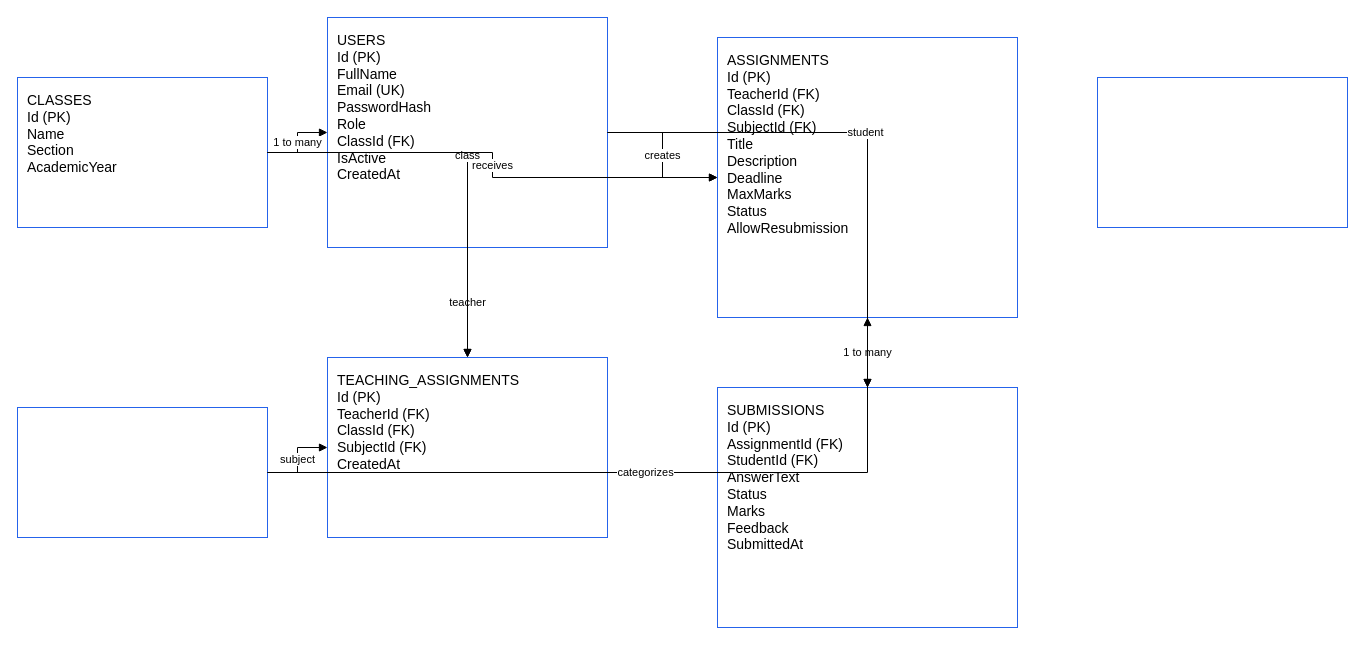
The diagram is 1365 pixels wide and 645 high, and some of its shapes have lost their labels. The centre of each missing label's shape, as x and y in pixels:
"SETTINGS Id (PK) Key (UK) Value Description" goes at (x=1222, y=152).
"SUBJECTS Id (PK) Name Code (UK)" goes at (x=142, y=472).
